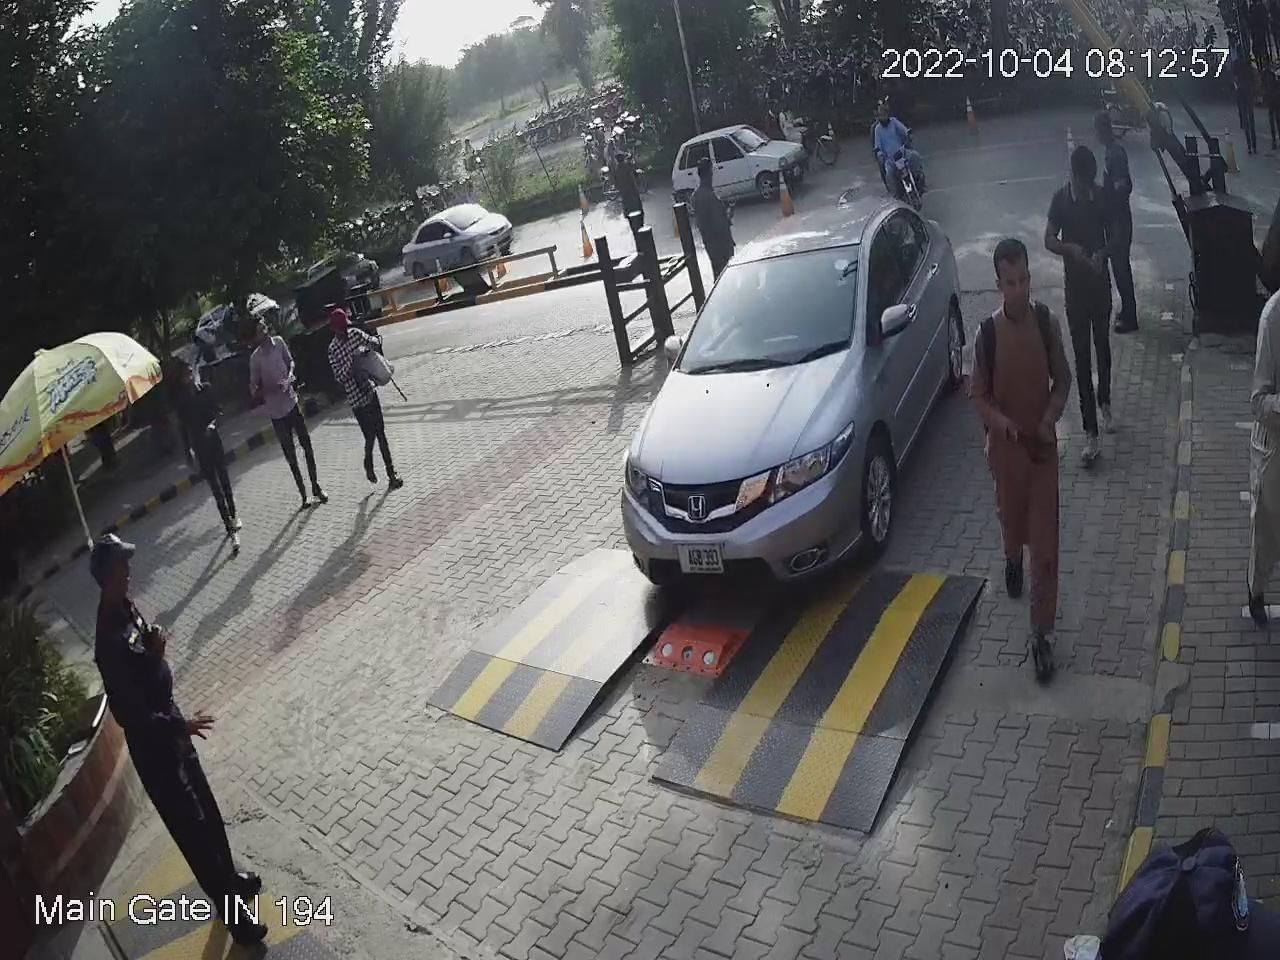windshield: (668, 233, 871, 372)
